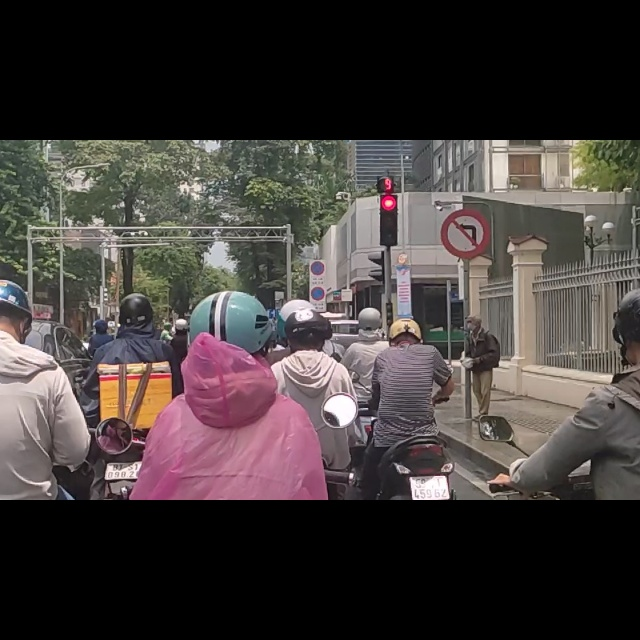bien_cam: (440, 119, 491, 212), (311, 258, 326, 286), (310, 215, 325, 242)
